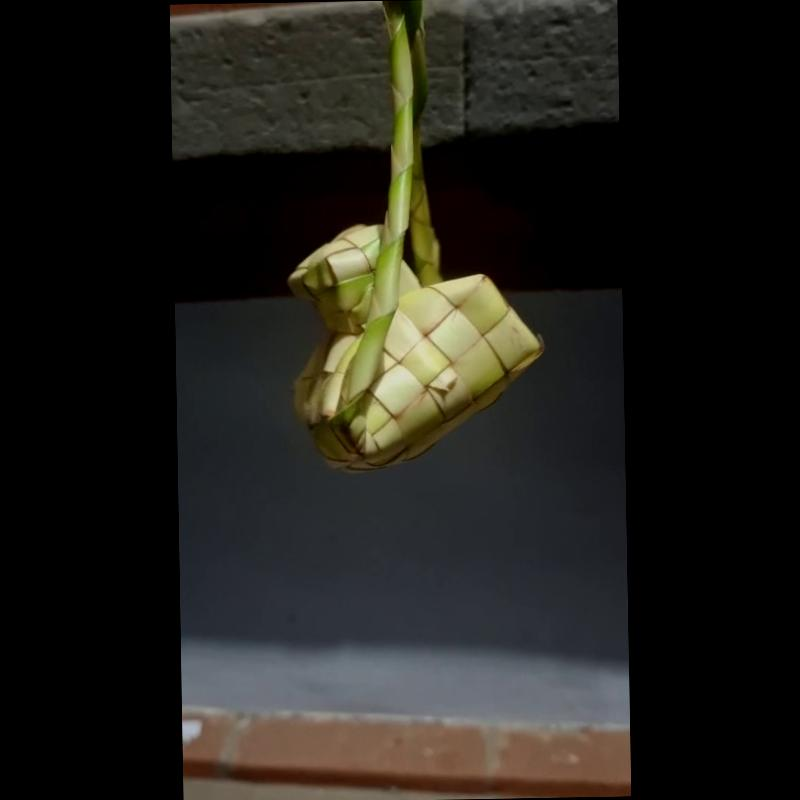Tipat Gong: (285, 0, 547, 477)
